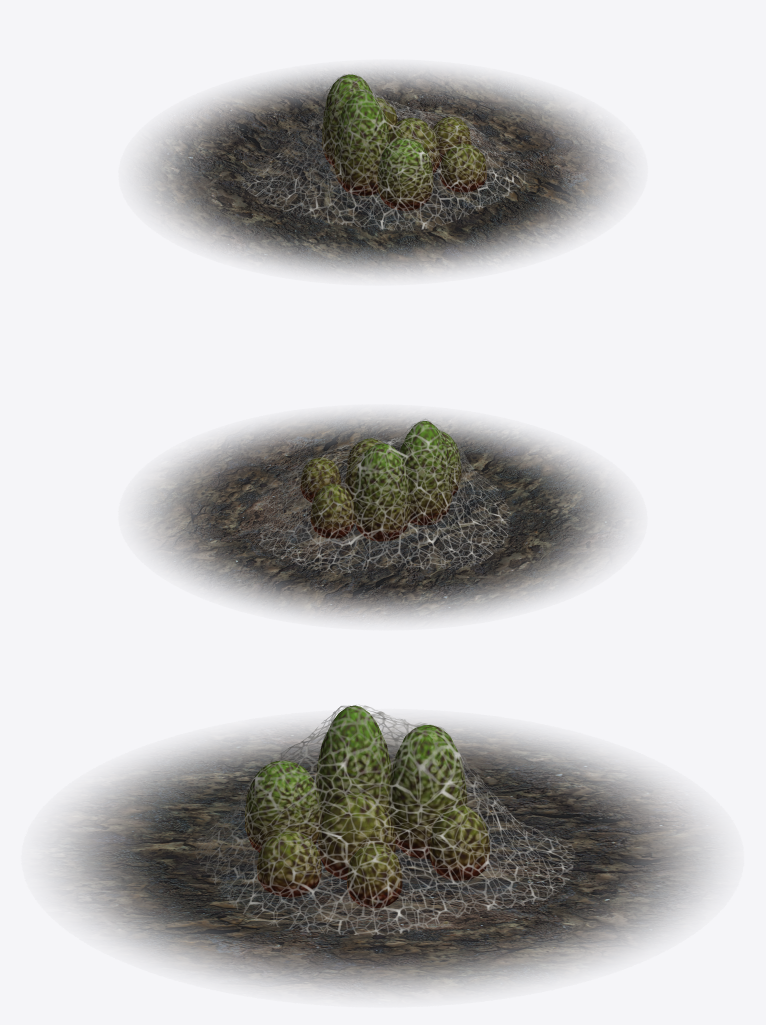
3 views of the same model, one above another, from view 1: azimuth 30°, elevation 25°; view 2: azimuth 150°, elevation 25°; view 3: azimuth 270°, elevation 25° (orthographic). The views are drawn at different scales.
Visible parts, largest first — view 1: pPlane1, eggs_tall1, edges_web; view 2: pPlane1, edges_web, eggs_tall1; view 3: pPlane1, eggs_tall1, edges_web.
Part boxes in pixels (x1,y1,x2,y2): pPlane1: (141, 69, 625, 275); eggs_tall1: (322, 74, 486, 210); edges_web: (241, 74, 527, 230); pPlane1: (141, 414, 624, 620); edges_web: (257, 418, 510, 572); eggs_tall1: (300, 421, 461, 541); pPlane1: (52, 722, 713, 994); eggs_tall1: (245, 705, 489, 907); edges_web: (195, 705, 575, 934).
Size of the model in its own units: 3.55 by 0.7246 by 3.55.
3 materials, 3 textured.
